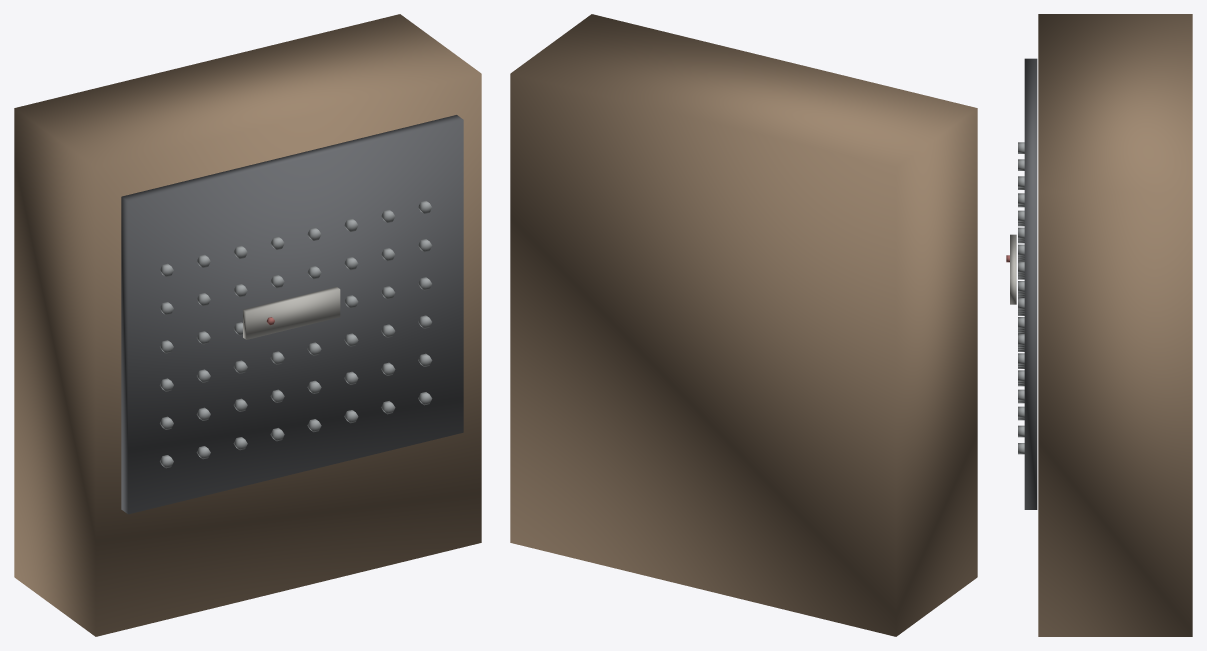
Rendered from telephone_switchboard__reinforced.glb.
The picture shows the model from 3 angles, left to right: view 1: azimuth 30°, elevation 25°; view 2: azimuth 150°, elevation 25°; view 3: azimuth 270°, elevation 25°; orthographic projection. The views are drawn at different scales.
Parts seen in each view (by area): view 1: world; view 2: world; view 3: world.
Boxes of the visible parts, x1,y1,x2,y2 form: world: (14,14,481,636); world: (510,14,977,636); world: (1006,14,1192,636).
Bounding box in the file's own units: 1.18 × 1.38 × 0.5222.
